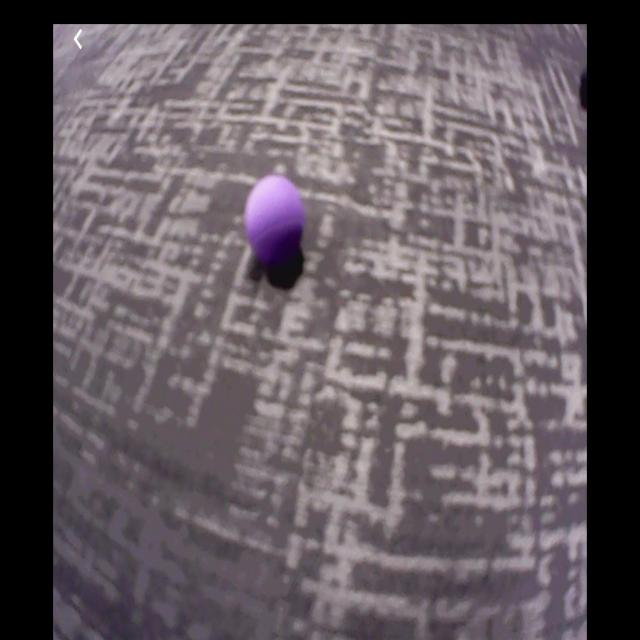ball: (246, 178, 305, 260)
